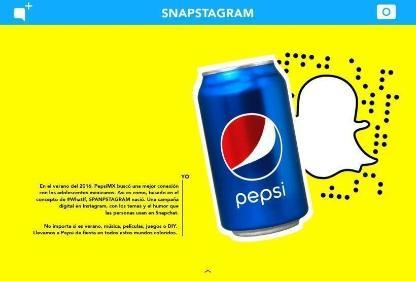Can: (197, 59, 309, 237)
